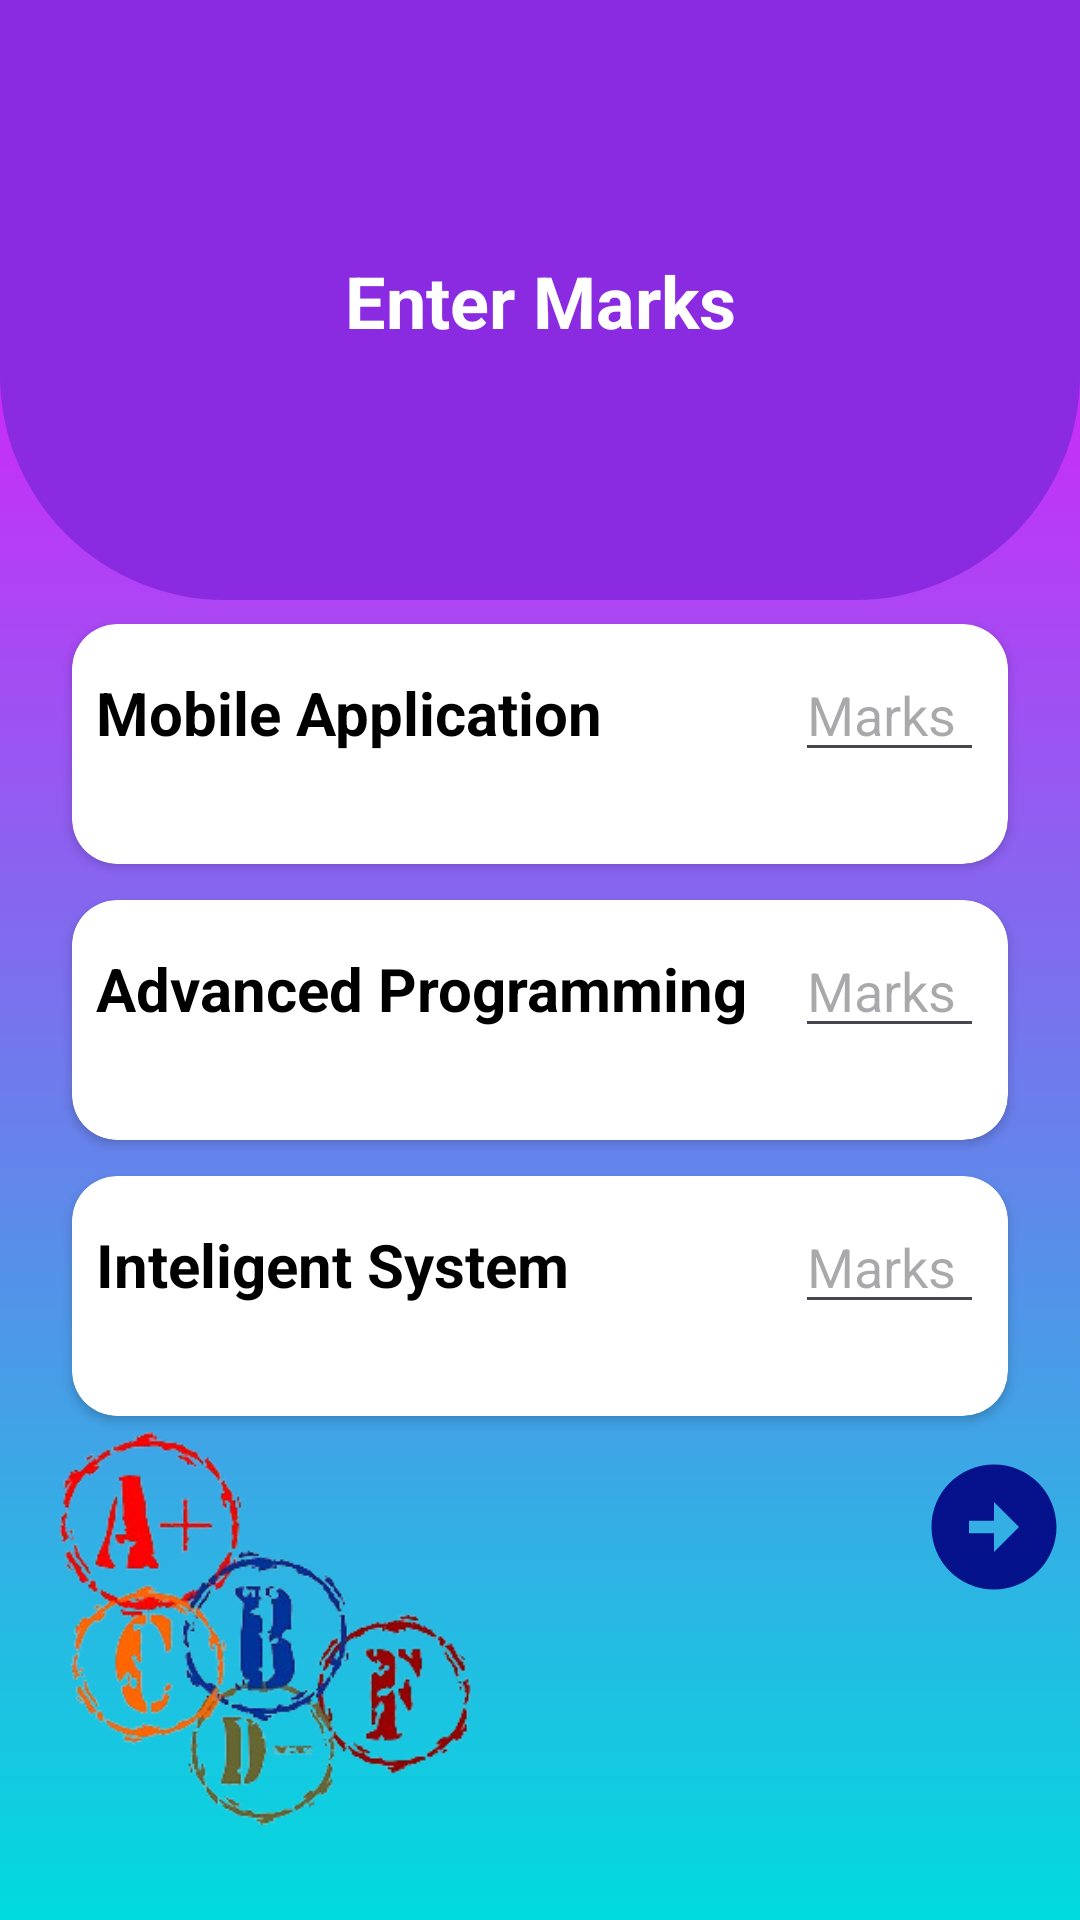

Named icons in this screenshot (1080×1920) and their centers, (x=x, y=y):
next: (x=994, y=1527)
